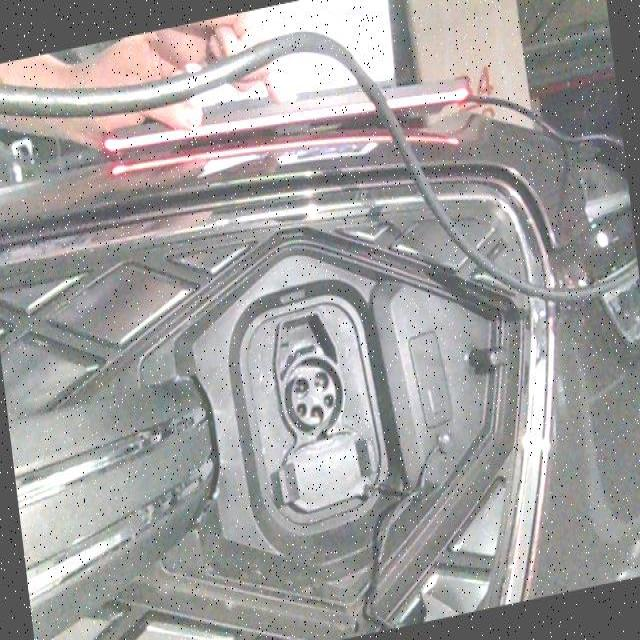Type 1: (268, 342, 352, 436)
